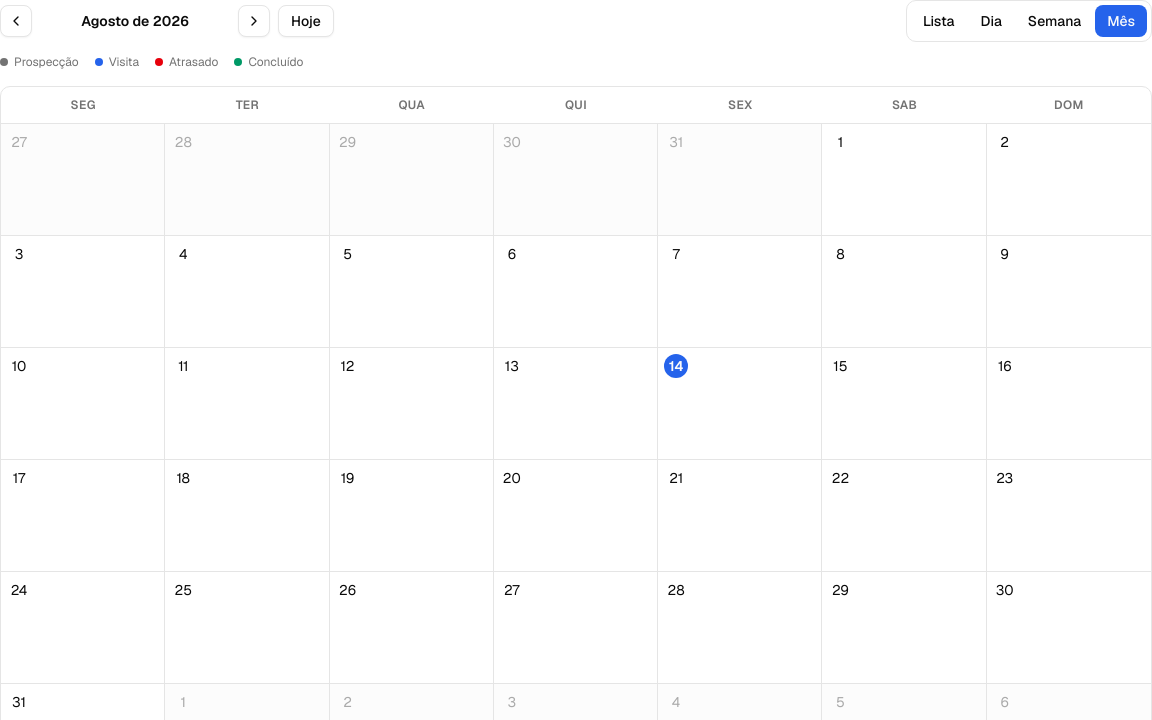
Test case: AgendaCalendario › o diálogo de um dia sem itens mostra a mensagem de dia vazio
Click the button "14" at (740, 404), box [658,348,822,460]
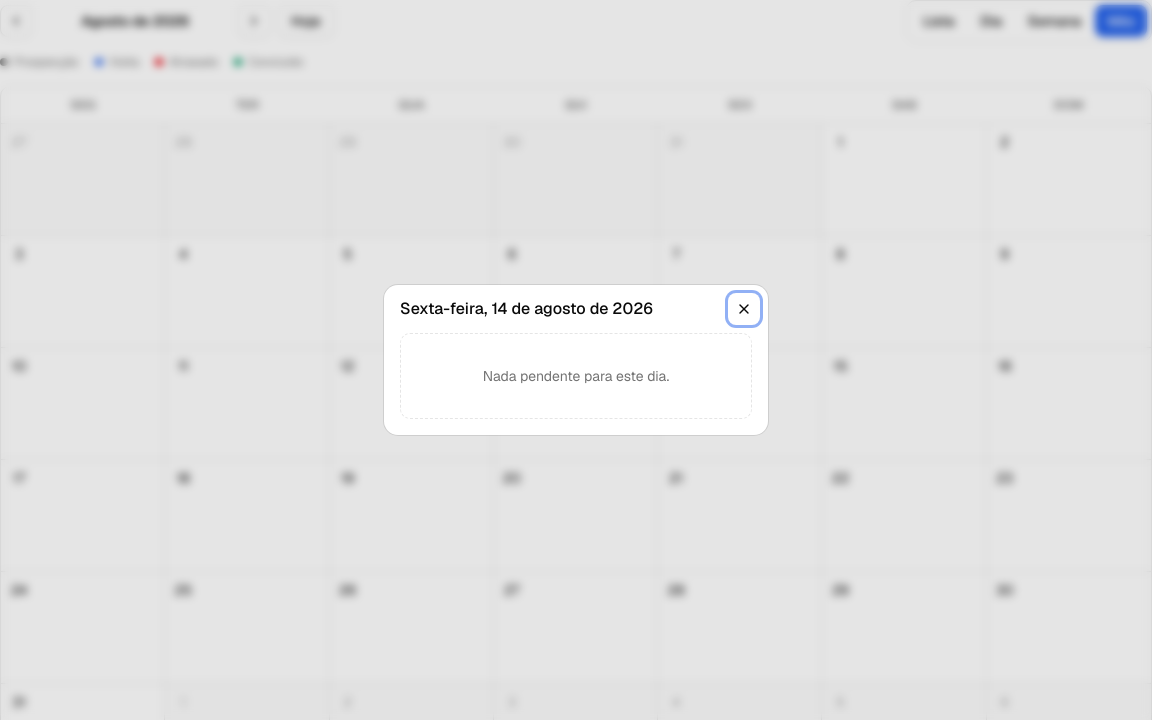
Expected: the text "Nada pendente para este dia." is shown, [400,333,752,419]
